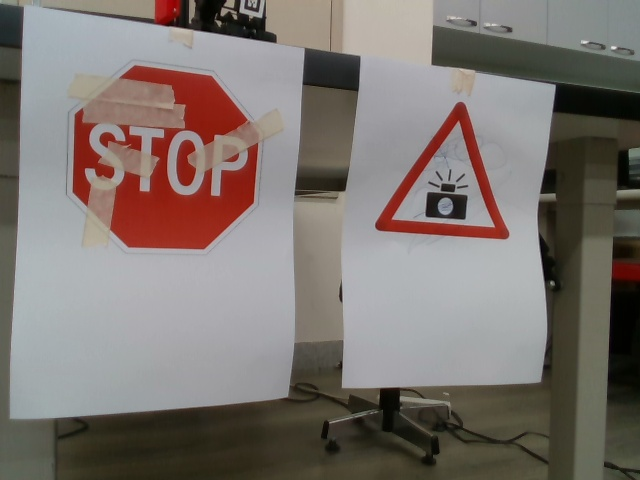camera: (375, 102, 519, 246)
stop: (69, 58, 266, 255)
